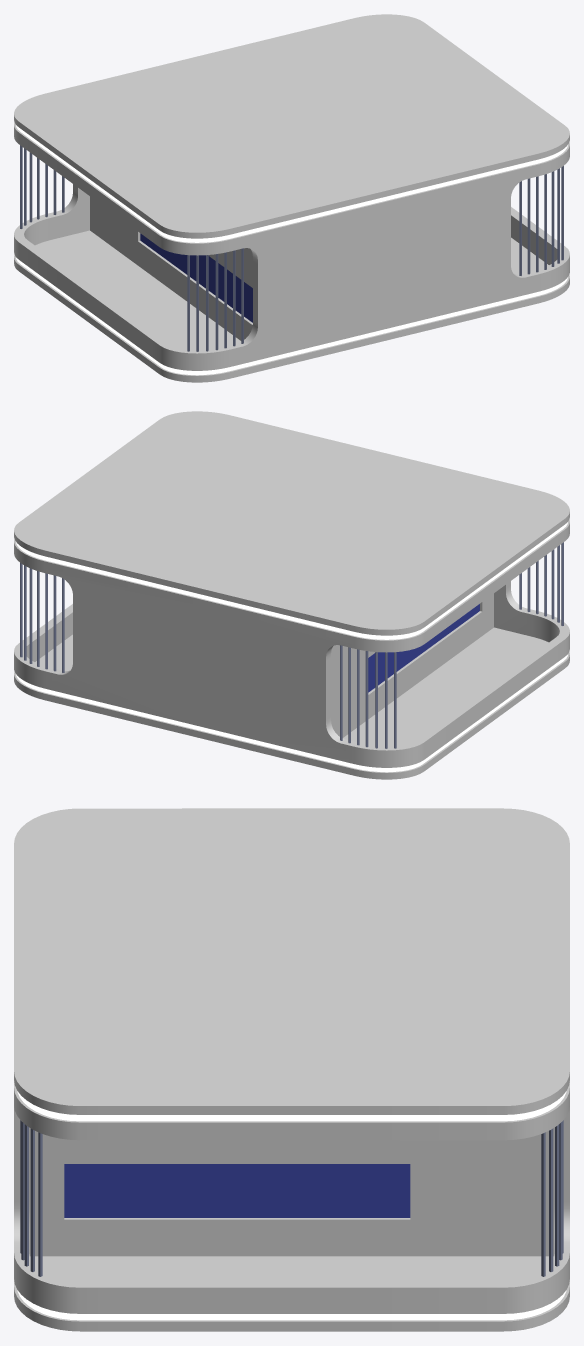
The model's file is SM_B_i2_roof.fbx.
3 views of the same model, one above another, from view 1: azimuth 30°, elevation 25°; view 2: azimuth 150°, elevation 25°; view 3: azimuth 270°, elevation 25° (orthographic). The views are drawn at different scales.
Visible parts, largest first — view 1: 3flor; view 2: 3flor; view 3: 3flor.
Part boxes in pixels (<box>): 3flor: <box>14,14,569,382</box>; 3flor: <box>14,411,569,779</box>; 3flor: <box>14,808,569,1331</box>.
Bounding box in the file's own units: 1900 × 671 × 1500.
